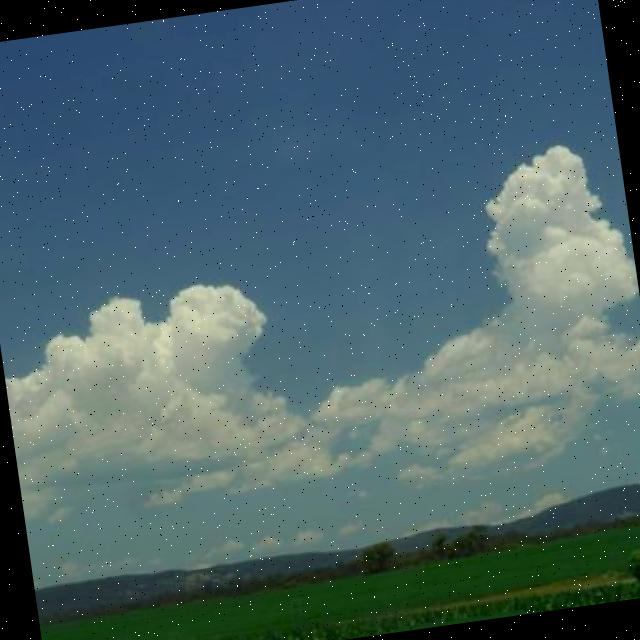Cu: (1, 103, 640, 555)
